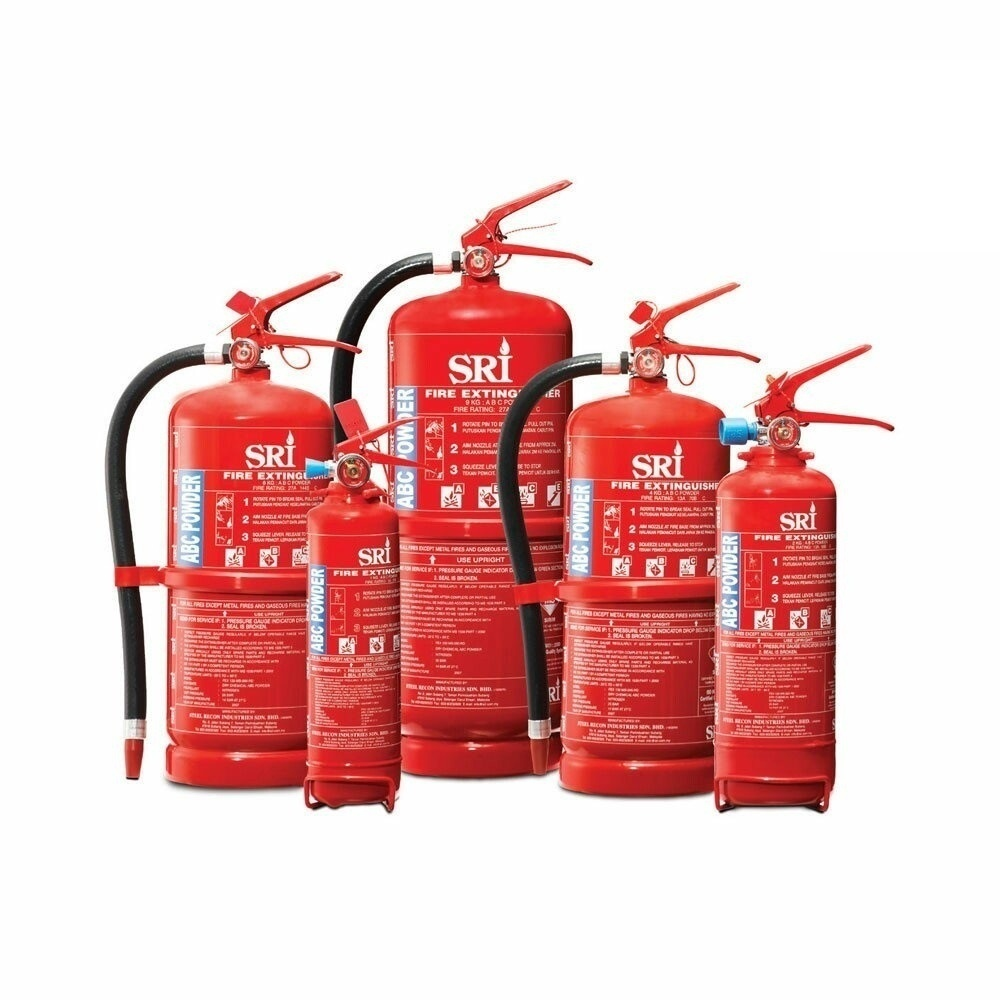fire_extinguisher: (328, 177, 594, 780), (496, 280, 761, 798), (104, 269, 357, 790), (713, 343, 895, 814)
